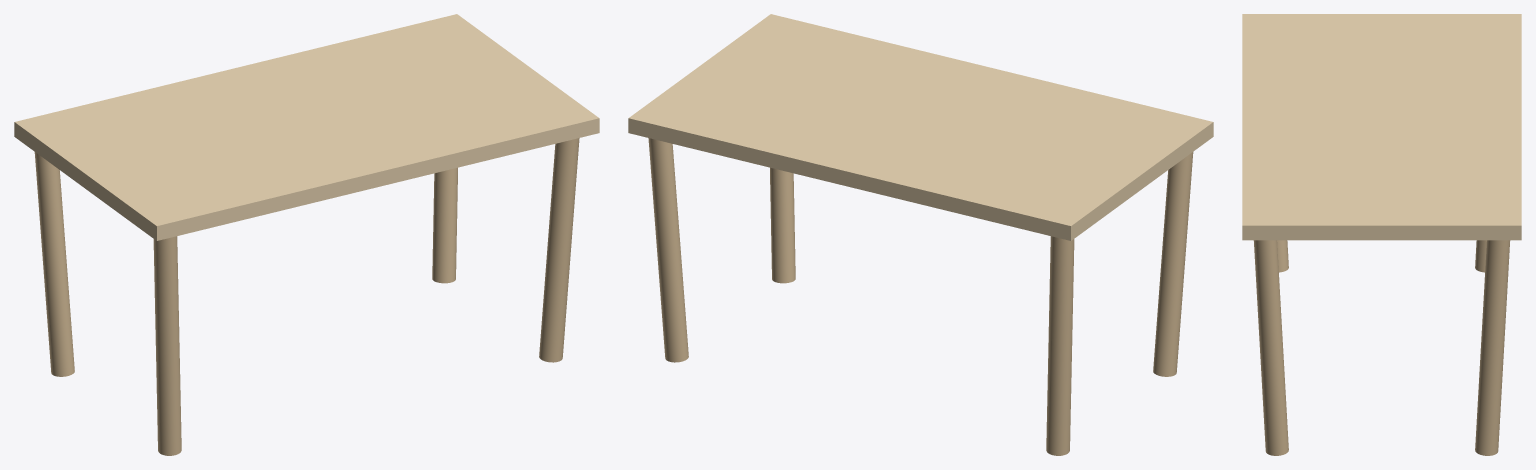
Rendered from ikea-lisabo-70294339-g2-dining-table-proxy.glb.
3 views of the same model, side by side, from view 1: azimuth 30°, elevation 25°; view 2: azimuth 150°, elevation 25°; view 3: azimuth 270°, elevation 25° (orthographic). The views are drawn at different scales.
Parts seen in each view (by area): view 1: table_top, tapered_leg (×4); view 2: table_top, tapered_leg (×4); view 3: table_top, tapered_leg (×4).
Boxes of the visible parts, x1,y1,x2,y2 form: table_top: (14, 14, 599, 240); tapered_leg (×4): (34, 138, 579, 455); table_top: (628, 14, 1213, 240); tapered_leg (×4): (648, 138, 1193, 455); table_top: (1242, 14, 1521, 240); tapered_leg (×4): (1253, 240, 1510, 455).
Bounding box in the file's own units: 1.4 × 0.7414 × 0.78.
